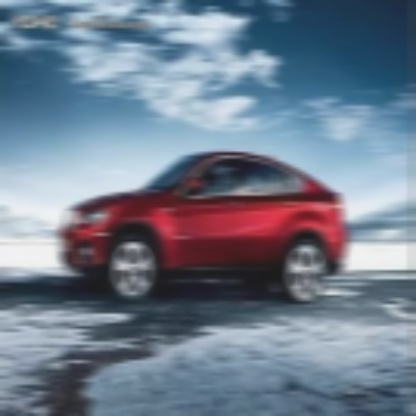Vehicle: (56, 147, 350, 315)
